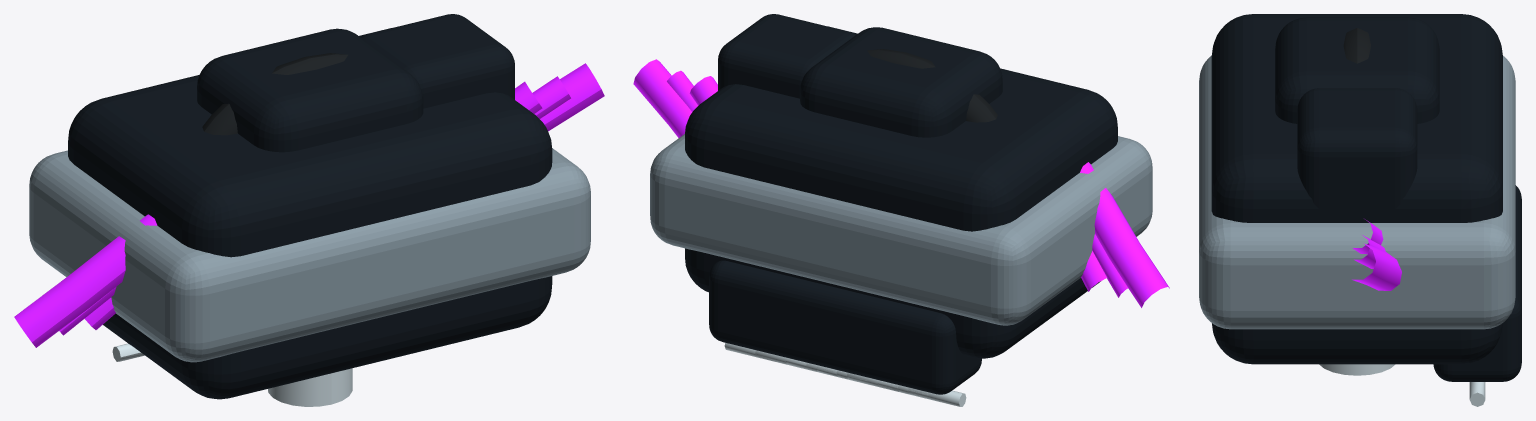
File: electrical_14.glb
3 views of the same model, side by side, from view 1: azimuth 30°, elevation 25°; view 2: azimuth 150°, elevation 25°; view 3: azimuth 270°, elevation 25° (orthographic). The views are drawn at different scales.
Visible parts, largest first — view 1: asset_mesh__electrical_0737__reference_body, asset_mesh__electrical_0782__controller_case, asset_mesh__electrical_0755__sensor_body, asset_mesh__electrical_0755__connector, asset_mesh__electrical_0746__current_path, asset_mesh__electrical_0755__sensor_probe, asset_mesh__electrical_0736__service_element, asset_mesh__electrical_0762__current_path, asset_mesh__electrical_0742__current_path; view 2: asset_mesh__electrical_0737__reference_body, asset_mesh__electrical_0782__controller_case, asset_mesh__electrical_0782__connector_bank, asset_mesh__electrical_0755__sensor_body, asset_mesh__electrical_0755__connector, asset_mesh__electrical_0746__current_path, asset_mesh__electrical_0736__service_element, asset_mesh__electrical_0762__current_path, asset_mesh__electrical_0742__current_path, asset_mesh__electrical_0782__pin_1; view 3: asset_mesh__electrical_0737__reference_body, asset_mesh__electrical_0782__controller_case, asset_mesh__electrical_0755__connector, asset_mesh__electrical_0755__sensor_body, asset_mesh__electrical_0782__connector_bank, asset_mesh__electrical_0746__current_path, asset_mesh__electrical_0736__service_element, asset_mesh__electrical_0755__sensor_probe, asset_mesh__electrical_0782__pin_7, asset_mesh__electrical_0762__current_path.
Boxes of the visible parts, x1,y1,x2,y2 form: asset_mesh__electrical_0737__reference_body: [68, 28, 552, 399]; asset_mesh__electrical_0782__controller_case: [29, 148, 590, 362]; asset_mesh__electrical_0755__sensor_body: [197, 28, 423, 152]; asset_mesh__electrical_0755__connector: [360, 14, 514, 108]; asset_mesh__electrical_0746__current_path: [14, 63, 604, 347]; asset_mesh__electrical_0755__sensor_probe: [268, 368, 352, 406]; asset_mesh__electrical_0736__service_element: [202, 53, 347, 135]; asset_mesh__electrical_0762__current_path: [59, 76, 570, 335]; asset_mesh__electrical_0742__current_path: [84, 81, 542, 329]; asset_mesh__electrical_0737__reference_body: [685, 26, 1117, 358]; asset_mesh__electrical_0782__controller_case: [650, 134, 1152, 325]; asset_mesh__electrical_0782__connector_bank: [709, 260, 981, 394]; asset_mesh__electrical_0755__sensor_body: [800, 27, 1002, 137]; asset_mesh__electrical_0755__connector: [718, 14, 855, 98]; asset_mesh__electrical_0746__current_path: [633, 59, 1169, 307]; asset_mesh__electrical_0736__service_element: [867, 49, 997, 122]; asset_mesh__electrical_0762__current_path: [667, 70, 1127, 297]; asset_mesh__electrical_0742__current_path: [689, 76, 1106, 291]; asset_mesh__electrical_0782__pin_1: [908, 387, 966, 406]; asset_mesh__electrical_0737__reference_body: [1211, 14, 1502, 364]; asset_mesh__electrical_0782__controller_case: [1199, 56, 1515, 329]; asset_mesh__electrical_0755__connector: [1297, 88, 1417, 220]; asset_mesh__electrical_0755__sensor_body: [1275, 17, 1439, 123]; asset_mesh__electrical_0782__connector_bank: [1433, 185, 1521, 381]; asset_mesh__electrical_0746__current_path: [1352, 243, 1401, 290]; asset_mesh__electrical_0736__service_element: [1343, 28, 1370, 63]; asset_mesh__electrical_0755__sensor_probe: [1319, 364, 1395, 375]; asset_mesh__electrical_0782__pin_7: [1469, 382, 1485, 406]; asset_mesh__electrical_0762__current_path: [1354, 235, 1385, 268].
Bounding box in the file's own units: 1.73 × 0.9322 × 0.8568.
